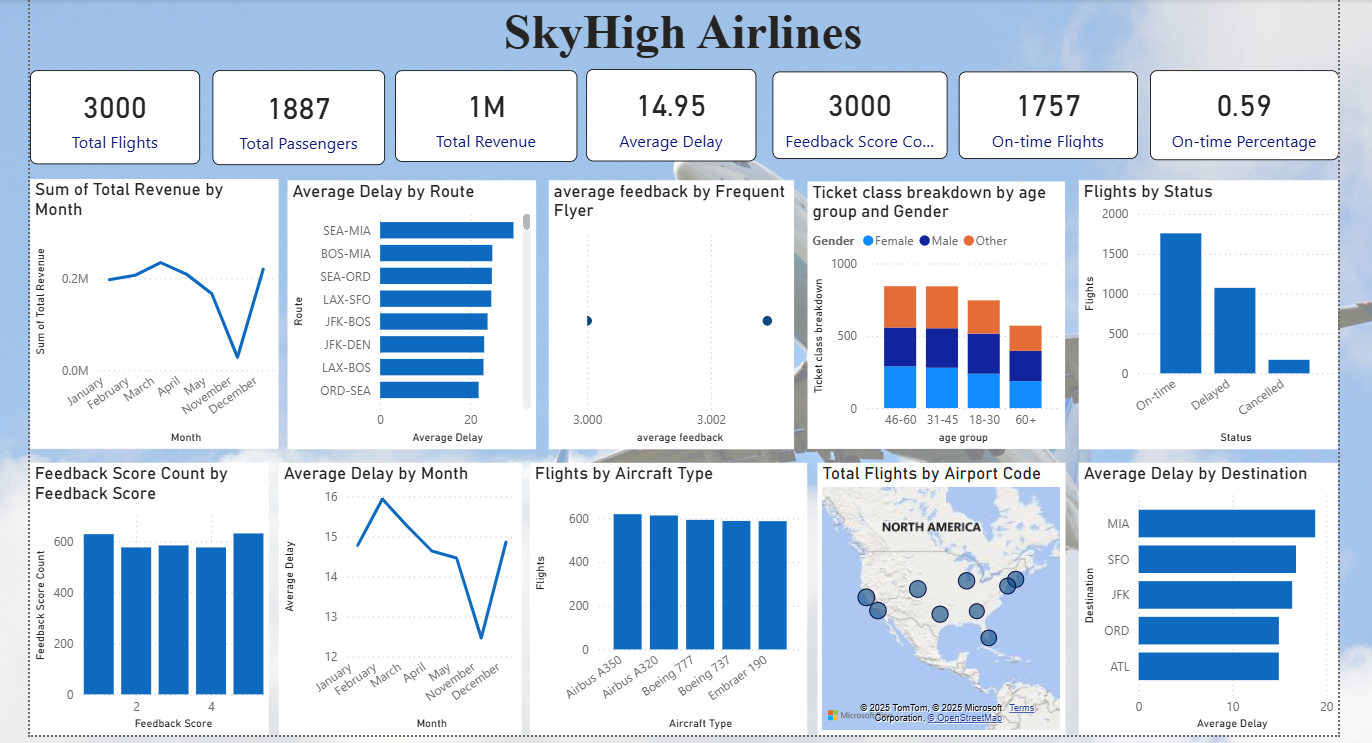

The dashboard page shown, as its layout file describes it:
{"tool":"powerbi","page":{"name":"Page 1","canvas":[1280,720],"ordinal":0},"visuals":[{"type":"card","fields":{"Values":["Airline_Flights.Total Flights"]},"box":[0,69.7,166.3,91.7],"z":0},{"type":"textbox","box":[343.6,0,590.6,69.7],"z":1000},{"type":"card","fields":{"Values":["Airline_Flights.Total Passengers"]},"box":[178.5,69.7,168.8,92.9],"z":2000},{"type":"card","fields":{"Values":["Airline_Flights.Total Revenue"]},"box":[357.1,69.7,178.5,89.3],"z":3000},{"type":"card","fields":{"Values":["Airline_Flights.Average Delay"]},"box":[544.2,68.5,166.3,90.5],"z":4000},{"type":"clusteredColumnChart","fields":{"Y":["Airline_Flights.Flights"],"Category":["Airline_Flights.Status"]},"box":[1026,177.3,254.3,262.9],"z":5000},{"type":"lineChart","fields":{"Category":["Airline_Flights.Date.Variation.Date Hierarchy.Month"],"Y":["Sum(Airline_Revenue.Total Revenue)"]},"box":[0,176.1,243.3,264.1],"z":6000},{"type":"map","fields":{"Category":["Airline_Airports.Airport Code"],"Size":["Airline_Flights.Total Flights"]},"box":[770.4,453.7,242.1,266.6],"z":7000},{"type":"clusteredBarChart","fields":{"Category":["Airline_Flights.Route"],"Y":["Airline_Flights.Average Delay"]},"box":[251.9,177.3,243.3,262.9],"z":8000},{"type":"lineChart","fields":{"Category":["Airline_Flights.Date.Variation.Date Hierarchy.Month"],"Y":["Airline_Flights.Average Delay"]},"box":[243.3,453.7,237.2,266.6],"z":9000},{"type":"columnChart","fields":{"Category":["Airline_Flights.Aircraft Type"],"Y":["Airline_Flights.Flights"]},"box":[489.1,453.7,271.5,266.6],"z":10000},{"type":"clusteredBarChart","fields":{"Category":["Airline_Flights.Destination"],"Y":["Airline_Flights.Average Delay"]},"box":[1026,453.7,254.3,266.6],"z":11000},{"type":"card","fields":{"Values":["Airline_Flights.Feedback Score Count"]},"box":[726.4,70.9,171.2,85.6],"z":12000},{"type":"columnChart","fields":{"Category":["Airline_Passengers.Feedback Score"],"Y":["Airline_Flights.Feedback Score Count"]},"box":[0,453.7,233.6,266.6],"z":13000},{"type":"columnChart","fields":{"Category":["Airline_Passengers.age group"],"Series":["Airline_Passengers.Gender"],"Y":["Airline_Passengers.Ticket class breakdown"]},"box":[760.6,178.5,251.9,261.7],"z":14000},{"type":"scatterChart","fields":{"X":["Airline_Passengers.average feedback"],"Category":["Airline_Passengers.Frequent Flyer"]},"box":[507.5,177.3,239.7,262.9],"z":15000},{"type":"card","fields":{"Values":["Airline_Flights.On-time Flights"]},"box":[908.6,70.9,174.9,85.6],"z":16000},{"type":"card","fields":{"Values":["Airline_Flights.On-time %"]},"box":[1095.7,69.7,184.6,88],"z":17000}]}

Visuals, with their boxes in screenshot pixels (x1, y1, x2, y2):
card - Airline_Flights.Total Flights: <region>29, 67, 198, 161</region>
textbox: <region>378, 0, 980, 67</region>
card - Airline_Flights.Total Passengers: <region>210, 67, 382, 162</region>
card - Airline_Flights.Total Revenue: <region>392, 67, 574, 158</region>
card - Airline_Flights.Average Delay: <region>583, 66, 752, 158</region>
clusteredColumnChart - Airline_Flights.Flights x Airline_Flights.Status: <region>1073, 177, 1332, 445</region>
lineChart - Airline_Flights.Date.Variation.Date Hierarchy.Month x Sum(Airline_Revenue.Total Revenue): <region>29, 176, 276, 445</region>
map - Airline_Airports.Airport Code x Airline_Flights.Total Flights: <region>813, 458, 1059, 730</region>
clusteredBarChart - Airline_Flights.Route x Airline_Flights.Average Delay: <region>285, 177, 533, 445</region>
lineChart - Airline_Flights.Date.Variation.Date Hierarchy.Month x Airline_Flights.Average Delay: <region>276, 458, 518, 730</region>
columnChart - Airline_Flights.Aircraft Type x Airline_Flights.Flights: <region>526, 458, 803, 730</region>
clusteredBarChart - Airline_Flights.Destination x Airline_Flights.Average Delay: <region>1073, 458, 1332, 730</region>
card - Airline_Flights.Feedback Score Count: <region>768, 69, 942, 156</region>
columnChart - Airline_Passengers.Feedback Score x Airline_Flights.Feedback Score Count: <region>29, 458, 266, 730</region>
columnChart - Airline_Passengers.age group x Airline_Passengers.Gender: <region>803, 178, 1059, 445</region>
scatterChart - Airline_Passengers.average feedback x Airline_Passengers.Frequent Flyer: <region>545, 177, 789, 445</region>
card - Airline_Flights.On-time Flights: <region>953, 69, 1131, 156</region>
card - Airline_Flights.On-time %: <region>1144, 67, 1332, 157</region>
